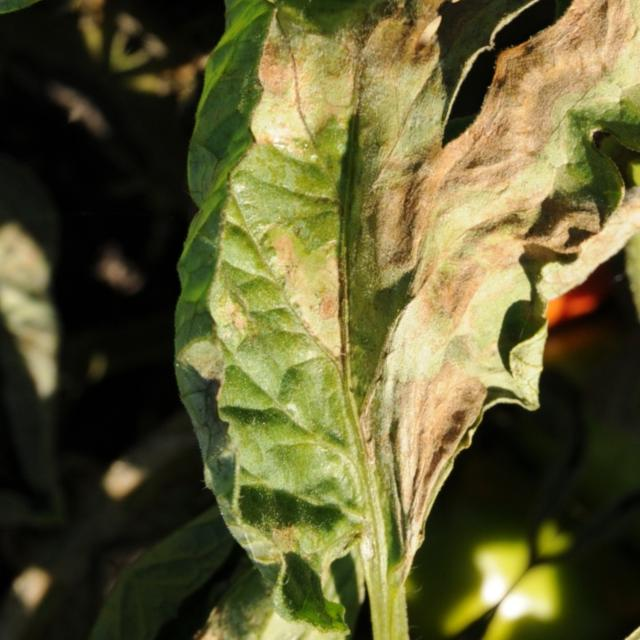Tomato leaf late blight: (0, 0, 640, 631)
